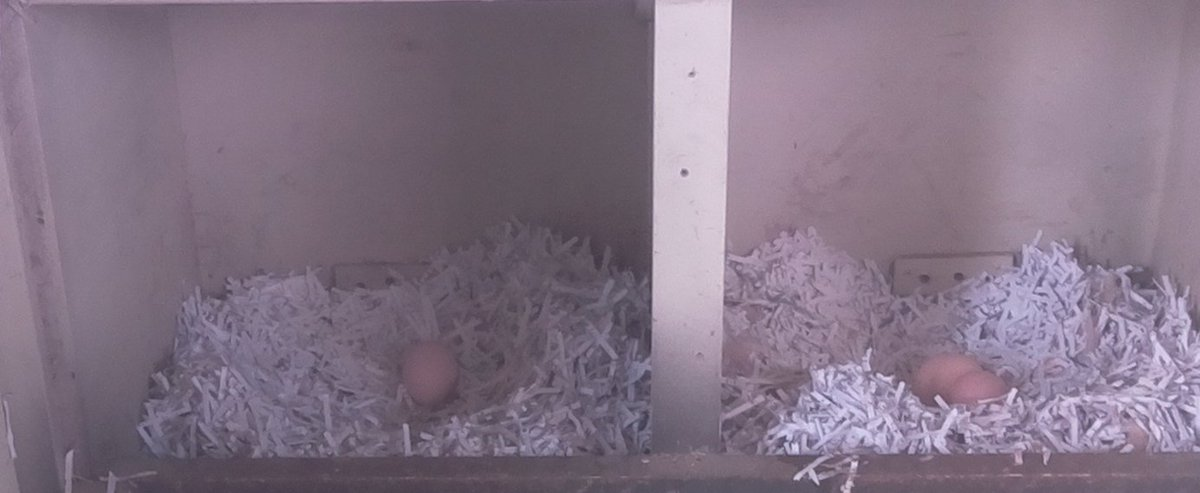egg: (399, 335, 464, 414), (913, 349, 983, 399), (947, 368, 1012, 412)
